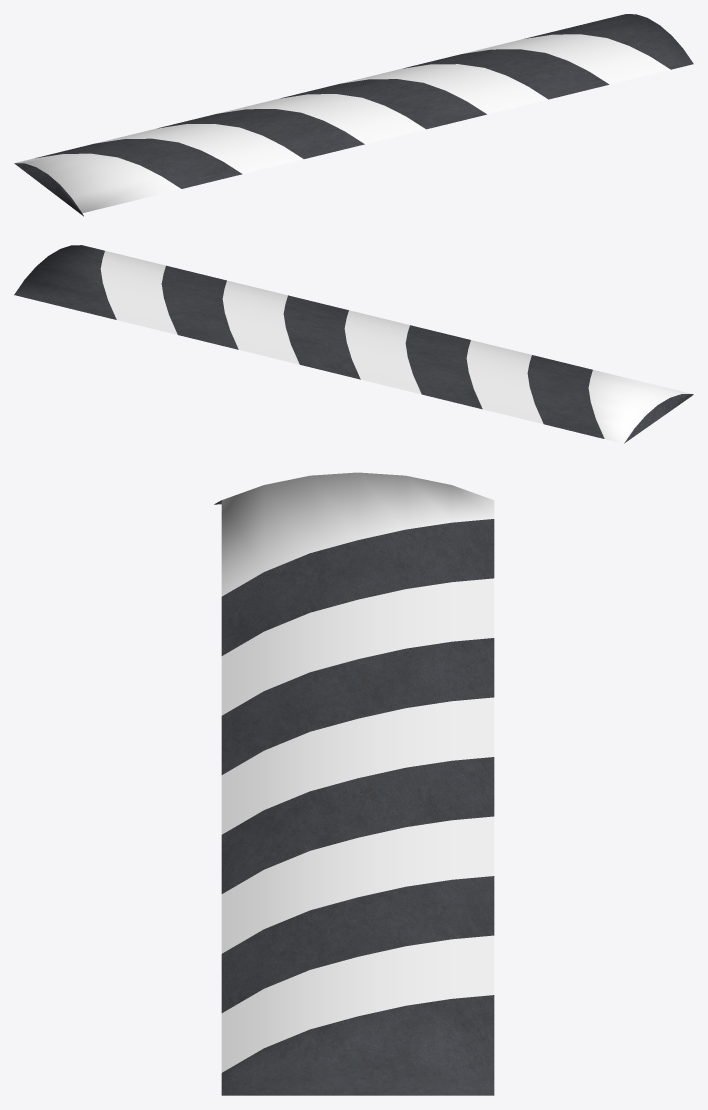
File: loma de burro.fbx
The picture shows the model from 3 angles, top to bottom: view 1: azimuth 30°, elevation 25°; view 2: azimuth 150°, elevation 25°; view 3: azimuth 270°, elevation 25°; orthographic projection. The views are drawn at different scales.
Visible parts, largest first — view 1: Cylinder.006; view 2: Cylinder.006; view 3: Cylinder.006.
Part boxes in pixels (<box>): Cylinder.006: <box>14,14,693,216</box>; Cylinder.006: <box>14,245,693,443</box>; Cylinder.006: <box>214,472,494,1095</box>.
Size of the model in its own units: 775 by 19.46 by 154.
2 materials, 2 textured.
